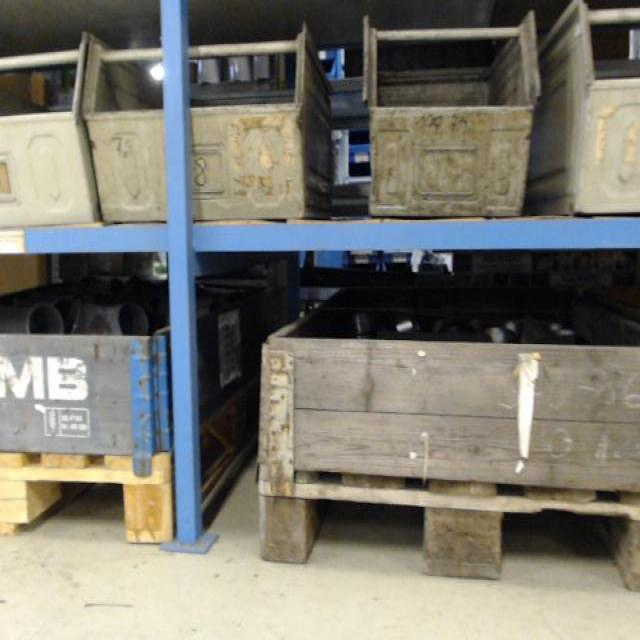pallet: (253, 460, 640, 594), (0, 446, 176, 548)
